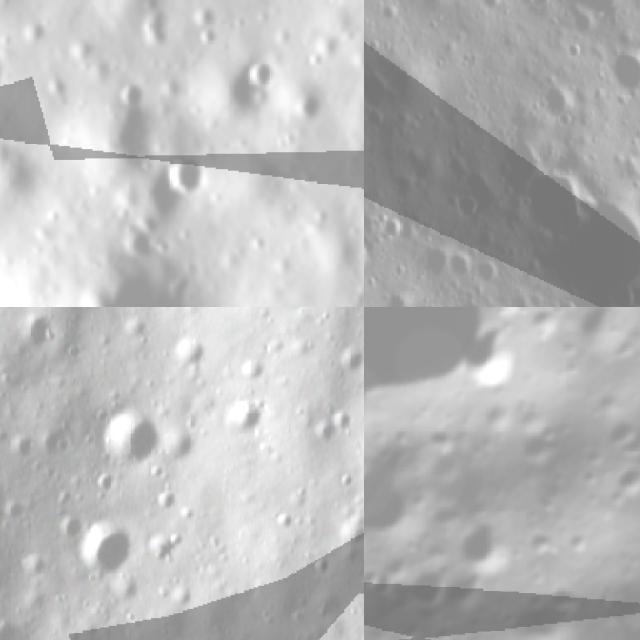crater: (364, 411, 443, 574), (528, 208, 640, 302), (456, 319, 537, 398), (456, 509, 529, 583), (402, 557, 469, 623), (152, 145, 224, 206), (517, 172, 583, 238), (108, 408, 168, 473), (76, 523, 128, 578), (597, 41, 640, 103), (531, 0, 628, 26), (238, 50, 286, 96), (452, 178, 496, 227), (0, 30, 21, 115), (223, 394, 263, 436), (468, 259, 506, 298), (144, 530, 182, 566), (439, 248, 475, 282), (171, 336, 205, 368), (23, 307, 52, 342), (112, 317, 150, 342), (18, 549, 48, 580), (329, 517, 364, 543), (111, 579, 145, 605), (331, 408, 359, 437), (168, 581, 198, 606), (336, 347, 364, 373), (152, 487, 181, 509), (271, 511, 299, 533), (307, 556, 335, 577), (11, 434, 34, 459), (88, 402, 110, 428), (6, 497, 29, 521), (56, 514, 77, 540), (94, 470, 120, 490), (383, 294, 420, 307), (53, 433, 71, 459), (314, 419, 332, 443), (289, 482, 310, 500), (335, 473, 354, 491), (178, 504, 195, 524), (78, 432, 98, 449), (147, 461, 166, 478)
